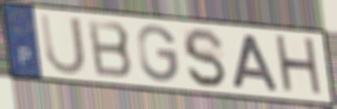A: (230, 32, 282, 94)
B: (85, 17, 136, 81)
G: (135, 23, 180, 84)
H: (272, 32, 326, 100)
S: (180, 26, 229, 90)
U: (38, 12, 89, 77)
